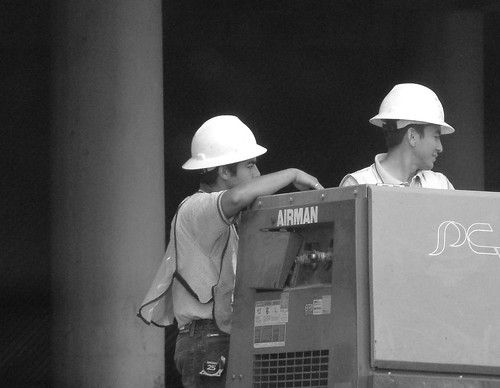person hardhat: (139, 112, 322, 387), (343, 80, 470, 207)
